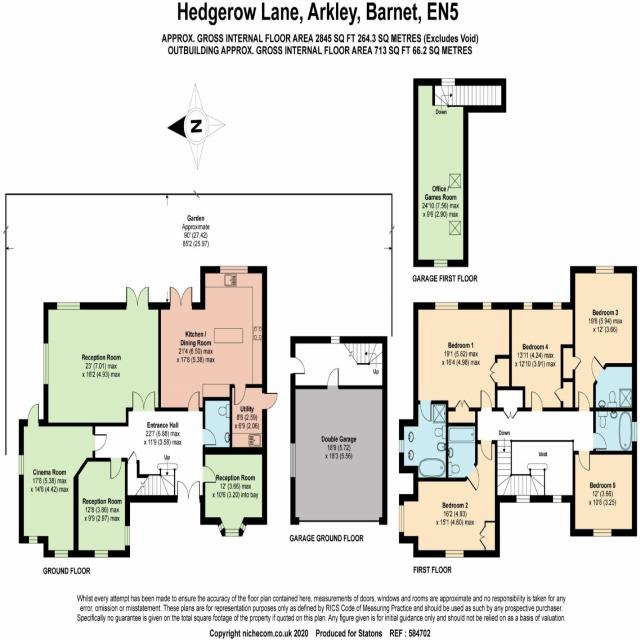DOOR: (465, 462, 481, 493), (590, 353, 606, 383), (479, 388, 495, 413), (577, 388, 592, 412), (530, 389, 545, 411), (479, 440, 494, 462), (577, 450, 591, 472), (110, 457, 122, 480), (92, 434, 107, 451), (188, 391, 200, 412), (27, 403, 39, 420)
DOUBLE DOOR: (169, 285, 193, 310), (132, 391, 156, 412), (126, 286, 149, 305)
ROOM: (43, 286, 161, 427), (158, 266, 267, 412), (18, 402, 107, 557), (398, 440, 500, 559), (413, 302, 512, 423), (572, 266, 637, 412), (203, 447, 267, 537), (572, 450, 637, 537)
WINDOW: (217, 265, 249, 276), (434, 301, 459, 311), (443, 549, 465, 560), (594, 264, 615, 275), (591, 527, 613, 537), (398, 503, 405, 534), (290, 442, 296, 478), (56, 302, 81, 310), (44, 341, 48, 386), (515, 494, 531, 505), (480, 301, 492, 312), (521, 301, 534, 311), (551, 301, 562, 312), (54, 550, 69, 558), (94, 550, 109, 558), (551, 494, 563, 504), (28, 536, 38, 544)
